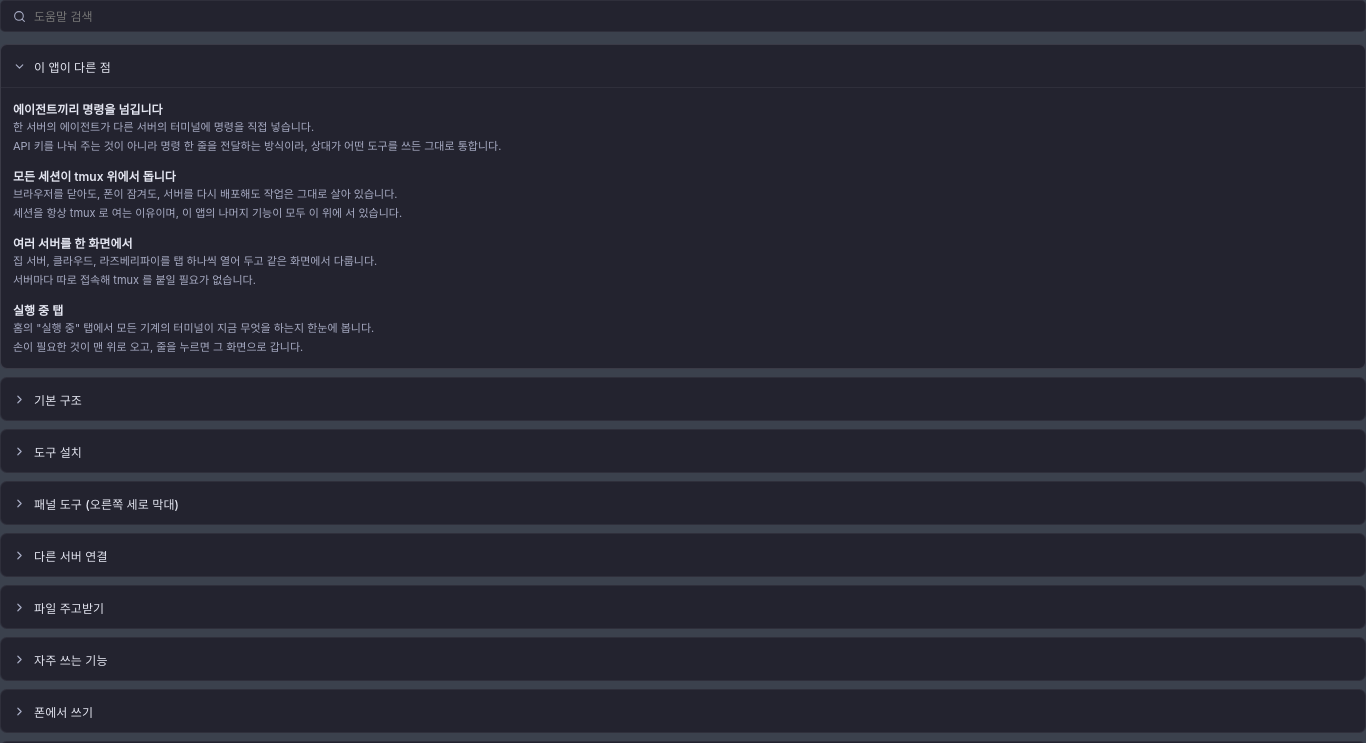
Test: HelpPanel › 아무것도 안 맞으면 그렇다고 말한다
Type "zzzzz-없는-말" into the field with placeholder "도움말 검색" at (694, 16), box [34,8,1353,24]
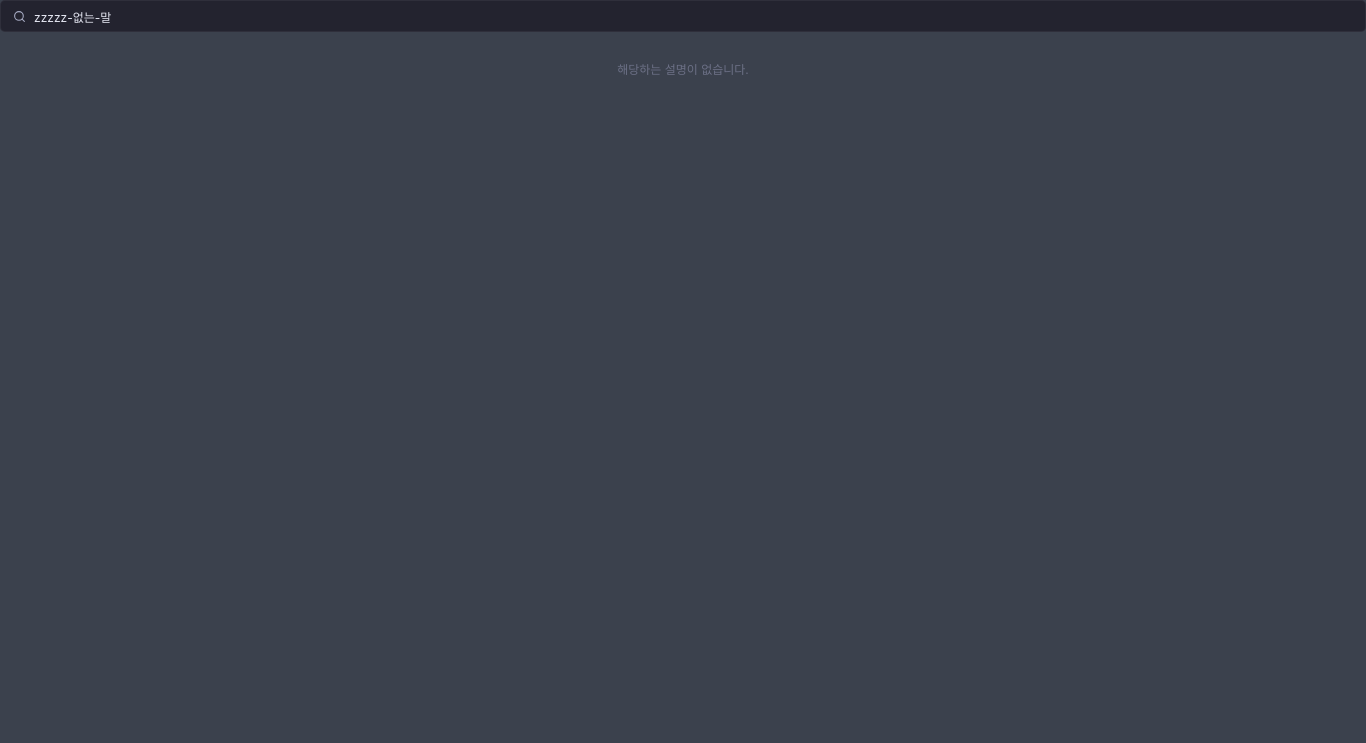
Now the text "해당하는 설명이 없습니다." is shown, box [617,62,749,77]
